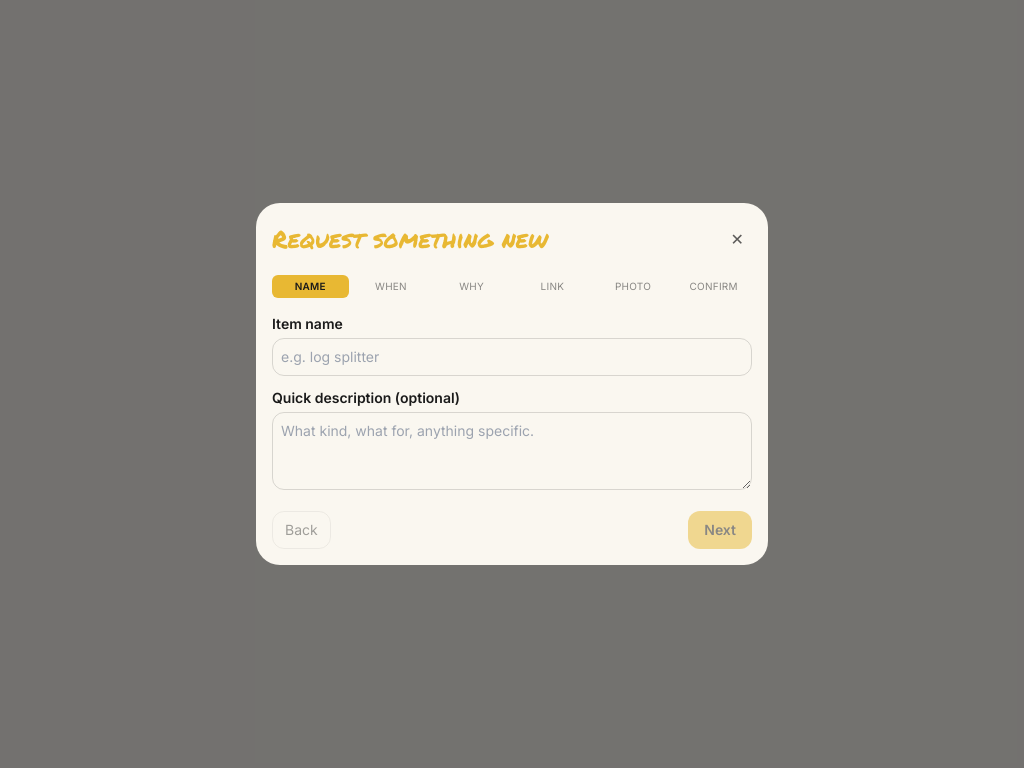
Test: RequestModal › blocks submit until the name is entered
Check: the button with test id "wishlist-next" is disabled, box [688, 511, 752, 549]
Type "Log splitter" into the field with test id "wishlist-name-input" at {"x": 512, "y": 357}, box [272, 338, 752, 376]
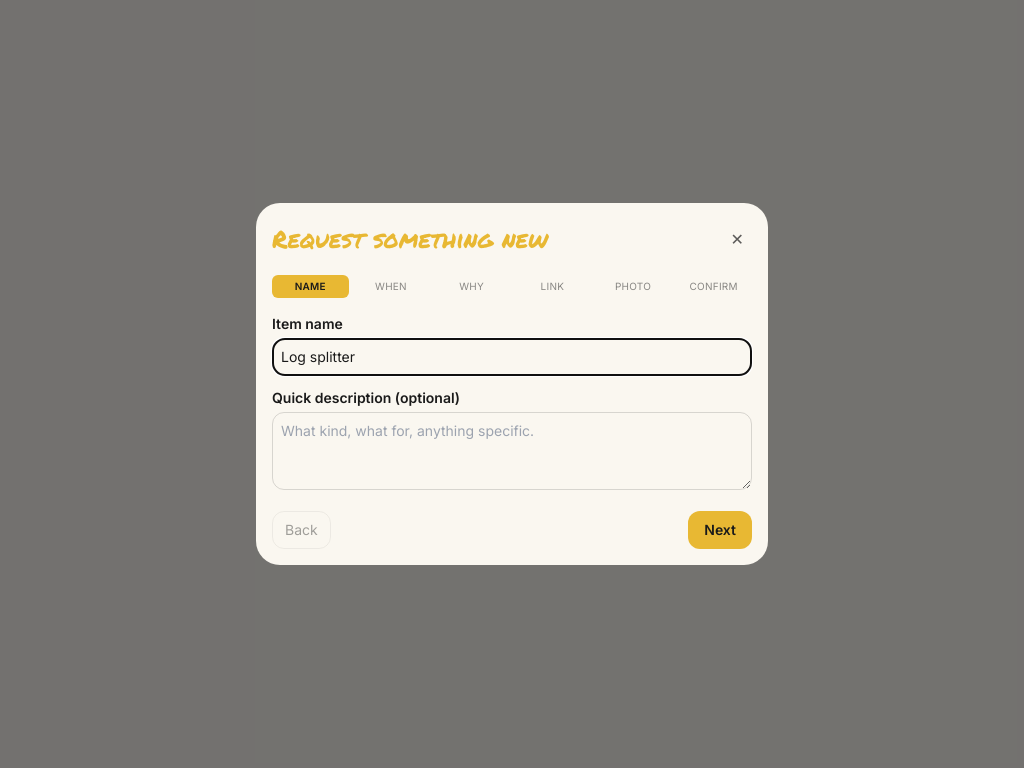
Check: the button with test id "wishlist-next" is enabled, box [688, 511, 752, 549]
